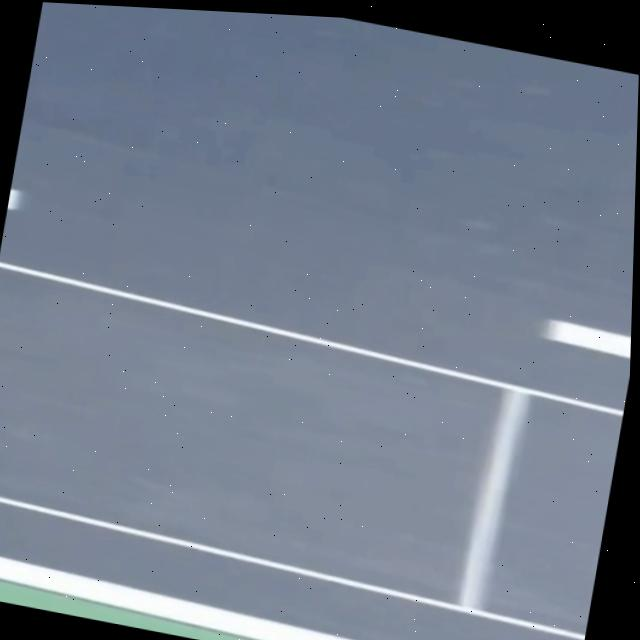center: (544, 320, 631, 358), (7, 188, 19, 209)
